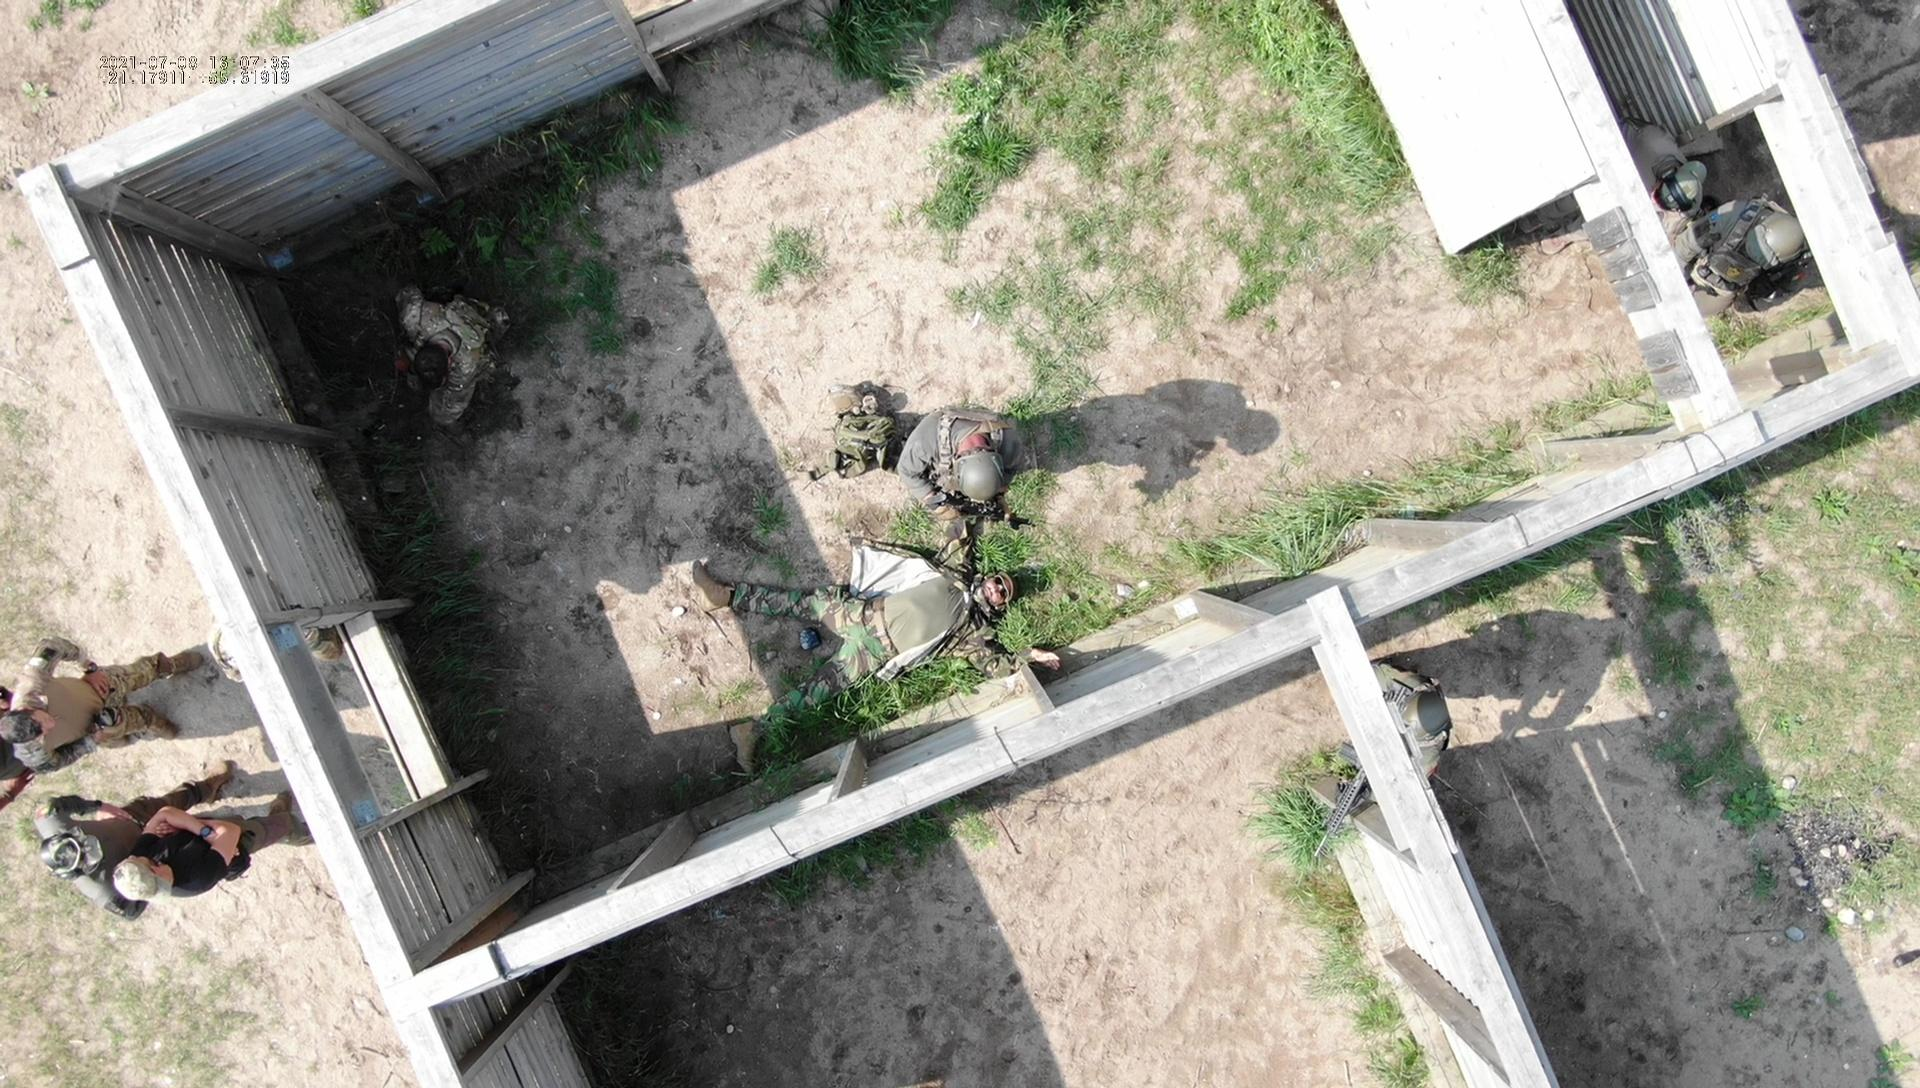Soldier: (711, 546, 1079, 735), (852, 368, 1062, 543), (0, 611, 204, 779), (377, 270, 527, 442), (1704, 171, 1809, 334), (1357, 694, 1447, 864)
